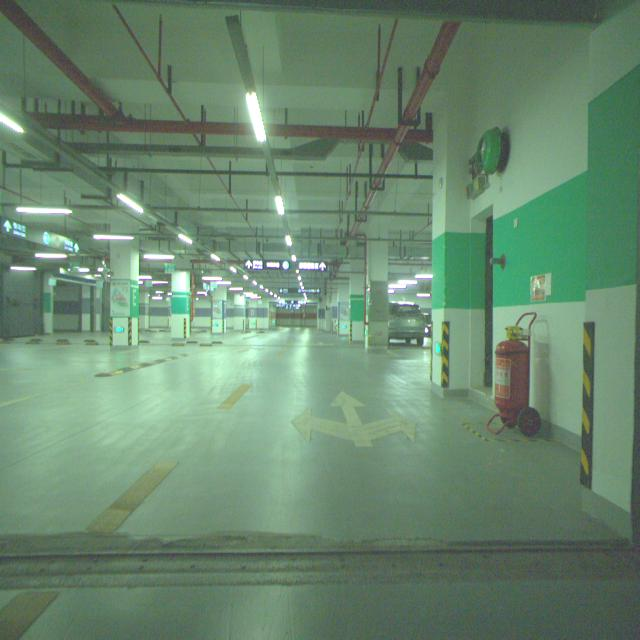pillar: (110, 241, 139, 345), (171, 270, 190, 338)
